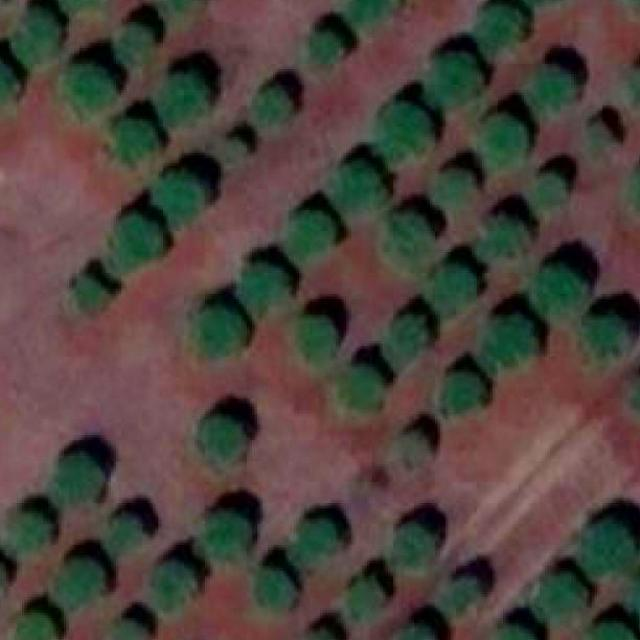Tree: (106, 212, 166, 273), (576, 522, 634, 577), (382, 106, 437, 163), (477, 317, 537, 367), (424, 51, 477, 107), (158, 74, 208, 132), (238, 262, 286, 320), (534, 266, 587, 318), (474, 3, 526, 53), (153, 174, 200, 229), (531, 574, 587, 619), (479, 116, 524, 172), (14, 11, 61, 64), (64, 64, 116, 111), (338, 163, 383, 216), (524, 69, 576, 114), (194, 309, 242, 356), (286, 214, 336, 258), (202, 514, 249, 560), (54, 456, 100, 503), (56, 560, 102, 606), (426, 268, 474, 312), (385, 317, 427, 367), (392, 522, 437, 567), (293, 522, 338, 567), (150, 564, 194, 610), (430, 172, 477, 214), (202, 417, 244, 462), (476, 218, 521, 260), (385, 216, 427, 260), (299, 318, 339, 363), (113, 121, 158, 161), (584, 320, 628, 357), (442, 374, 482, 414), (254, 569, 294, 605), (524, 174, 566, 208), (108, 516, 144, 555), (442, 579, 482, 614), (115, 24, 150, 64), (343, 370, 380, 407), (76, 276, 111, 313), (12, 517, 48, 551), (351, 579, 383, 616), (398, 433, 430, 467), (259, 88, 291, 122), (348, 0, 396, 22), (12, 615, 54, 640), (50, 0, 111, 17), (312, 36, 341, 70), (625, 569, 640, 632), (624, 165, 640, 223), (588, 121, 610, 156), (585, 625, 640, 639), (0, 61, 15, 111), (624, 66, 640, 112), (396, 625, 438, 640), (158, 0, 200, 14), (490, 628, 534, 640), (118, 623, 148, 640), (226, 140, 245, 161), (0, 562, 7, 602), (310, 630, 336, 640)
